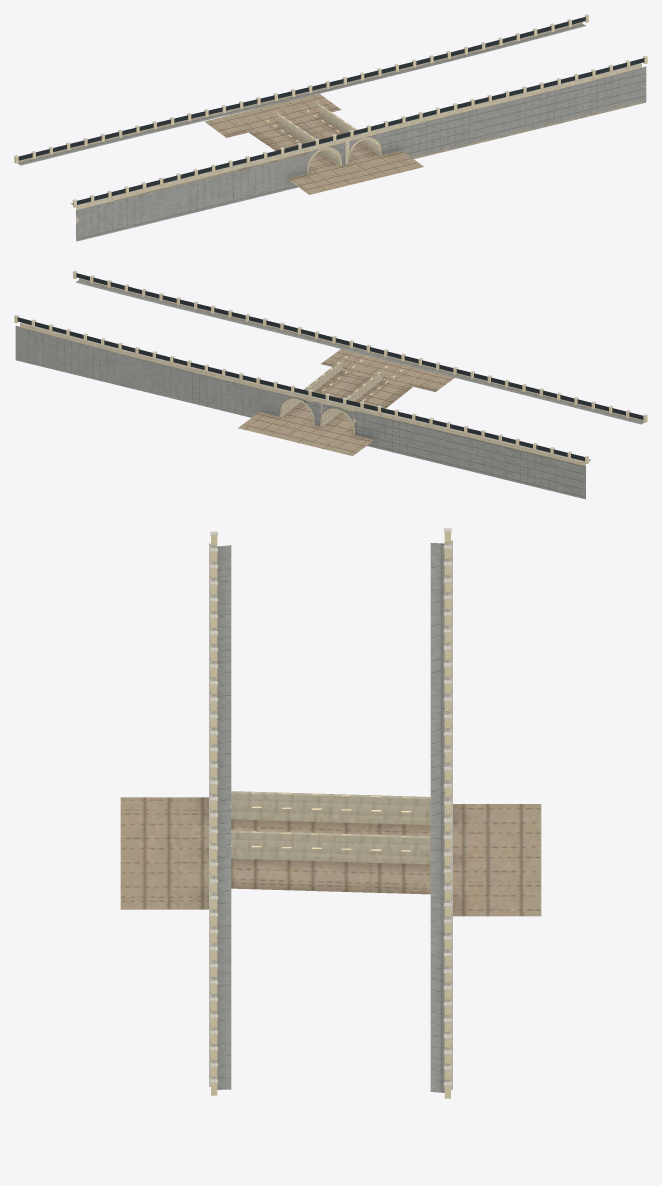
The model's file is astrakhan_bridge_lod1.glb.
3 views of the same model, one above another, from view 1: azimuth 30°, elevation 25°; view 2: azimuth 150°, elevation 25°; view 3: azimuth 270°, elevation 25° (orthographic). The views are drawn at different scales.
Parts seen in each view (by area): view 1: astrakhan_bridge_lod1; view 2: astrakhan_bridge_lod1; view 3: astrakhan_bridge_lod1.
Part boxes in pixels (x1,y1,x2,y2): astrakhan_bridge_lod1: (14, 14, 647, 241); astrakhan_bridge_lod1: (14, 270, 647, 499); astrakhan_bridge_lod1: (120, 528, 541, 1098).
Bounding box in the file's own units: 120 × 9.03 × 38.
Materials: 3 (3 with a texture image).
